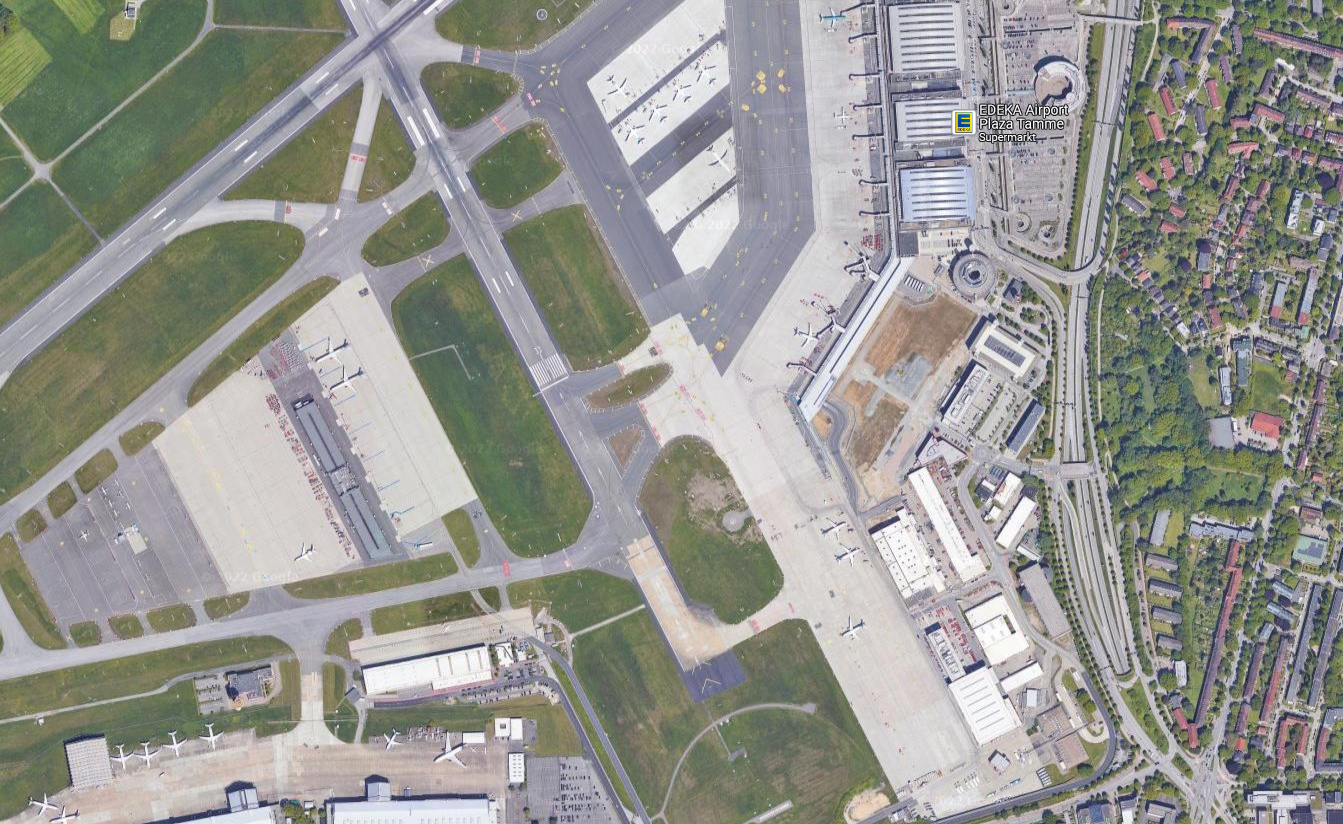plane: (327, 365, 367, 395), (315, 333, 351, 366), (707, 145, 732, 174), (841, 613, 866, 640), (794, 323, 819, 349), (835, 543, 861, 567), (821, 517, 847, 541), (819, 6, 844, 29), (293, 542, 318, 564), (608, 74, 629, 100), (625, 121, 646, 145), (698, 61, 717, 87), (649, 101, 669, 124), (674, 82, 692, 105), (78, 529, 89, 541)
